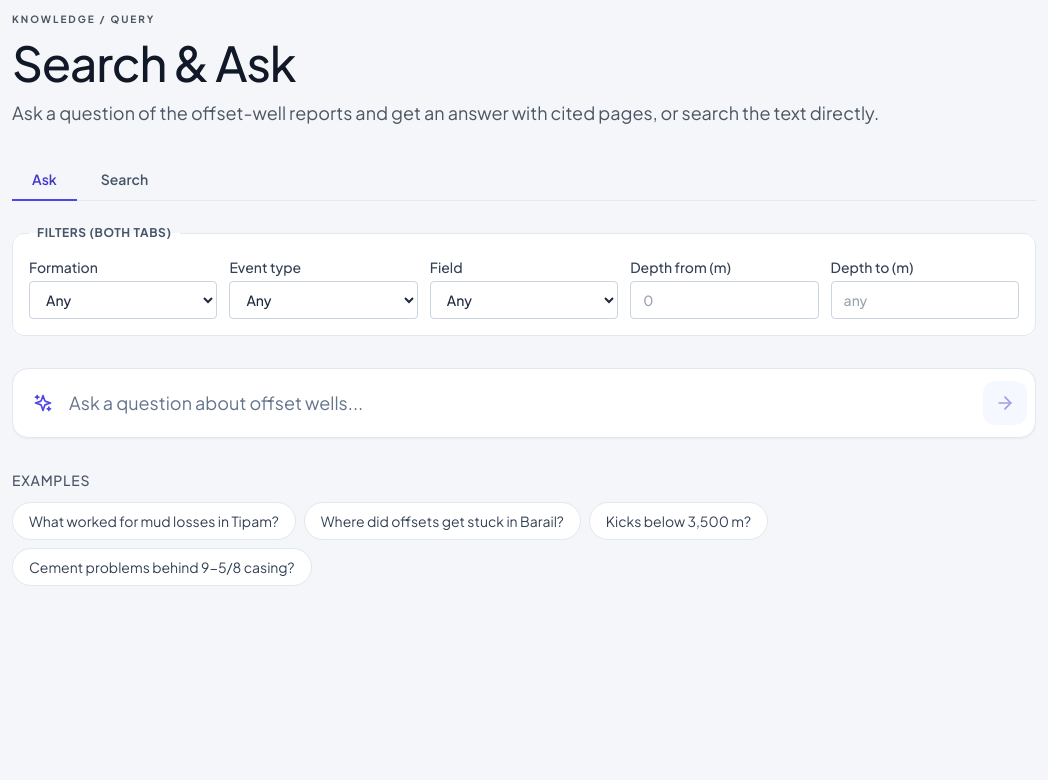
Test: SearchPage › opens on Ask, switches to Search, and keeps both panels
Expected: the field labelled "Ask a question" is shown, x1=53 y1=377 x2=983 y2=429
Click the tab "Search" at (124, 180), box x1=81 y1=159 x2=168 y2=201
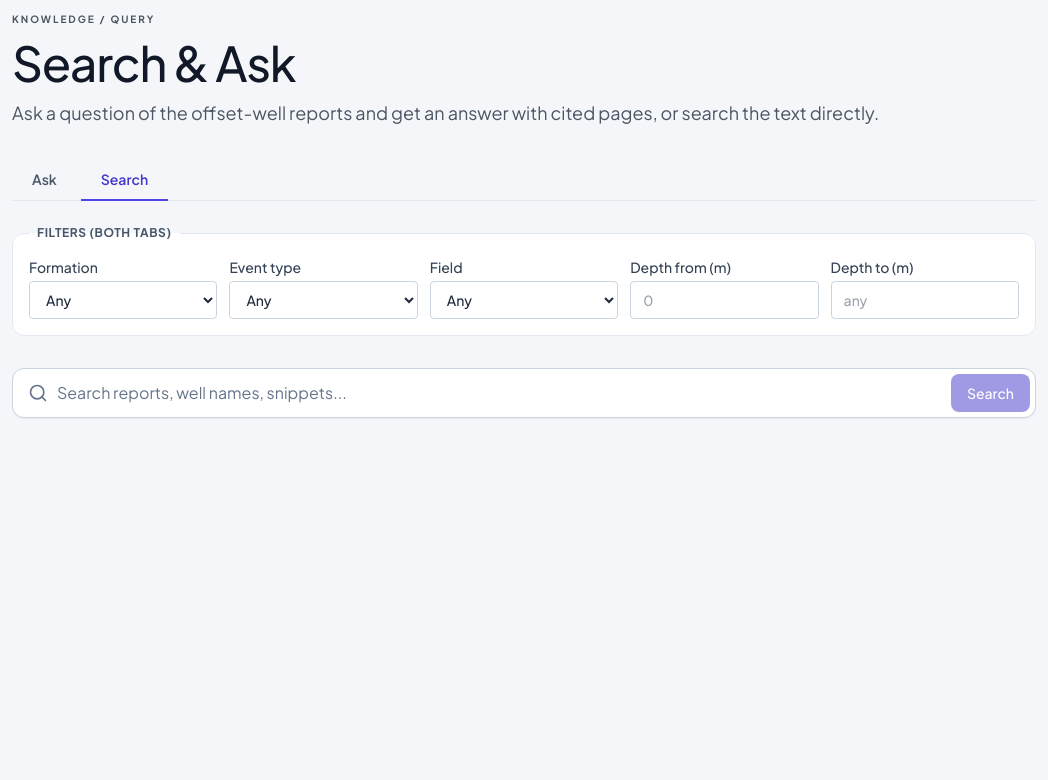
Now the field labelled "Search reports" is shown, box x1=12 y1=368 x2=1036 y2=418
